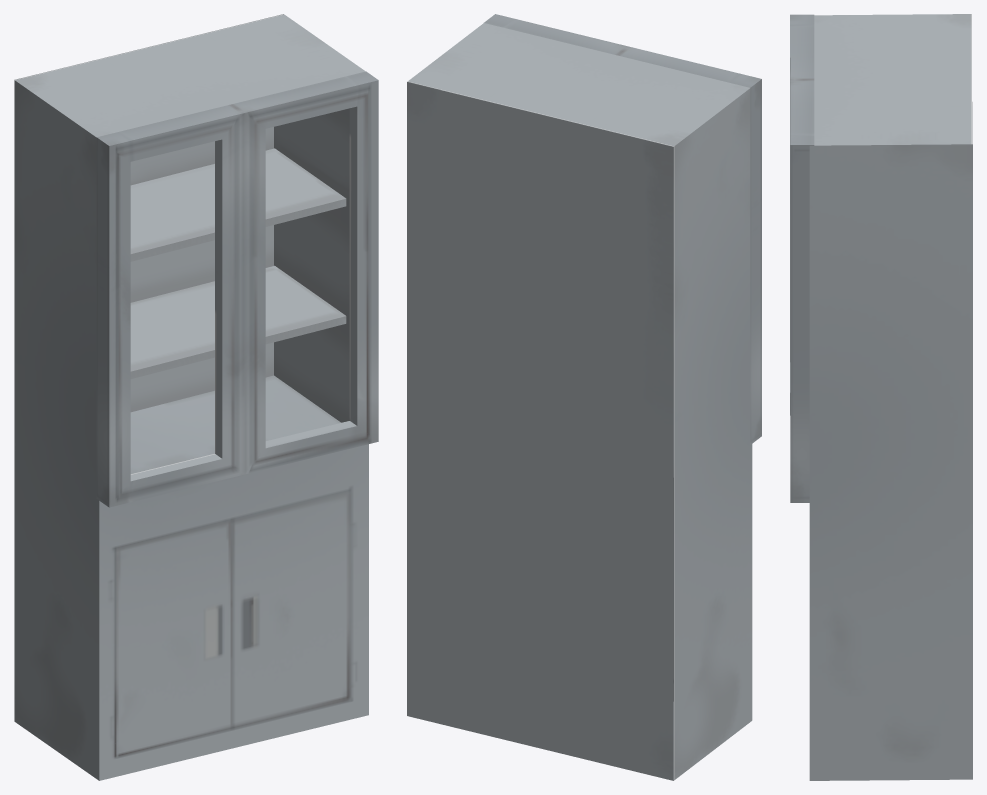
Rendered from Company_bookshelf_A.fbx.
3 views of the same model, side by side, from view 1: azimuth 30°, elevation 25°; view 2: azimuth 150°, elevation 25°; view 3: azimuth 270°, elevation 25° (orthographic).
Visible parts, largest first — view 1: Box190; view 2: Box190; view 3: Box190.
Boxes of the visible parts, left/top/right/bottom form: Box190: left=14, top=14, right=378, bottom=780; Box190: left=407, top=14, right=761, bottom=780; Box190: left=790, top=14, right=972, bottom=780.
Bounding box in the file's own units: 0.8833 × 1.99 × 0.5181.
1 material, 1 textured.
